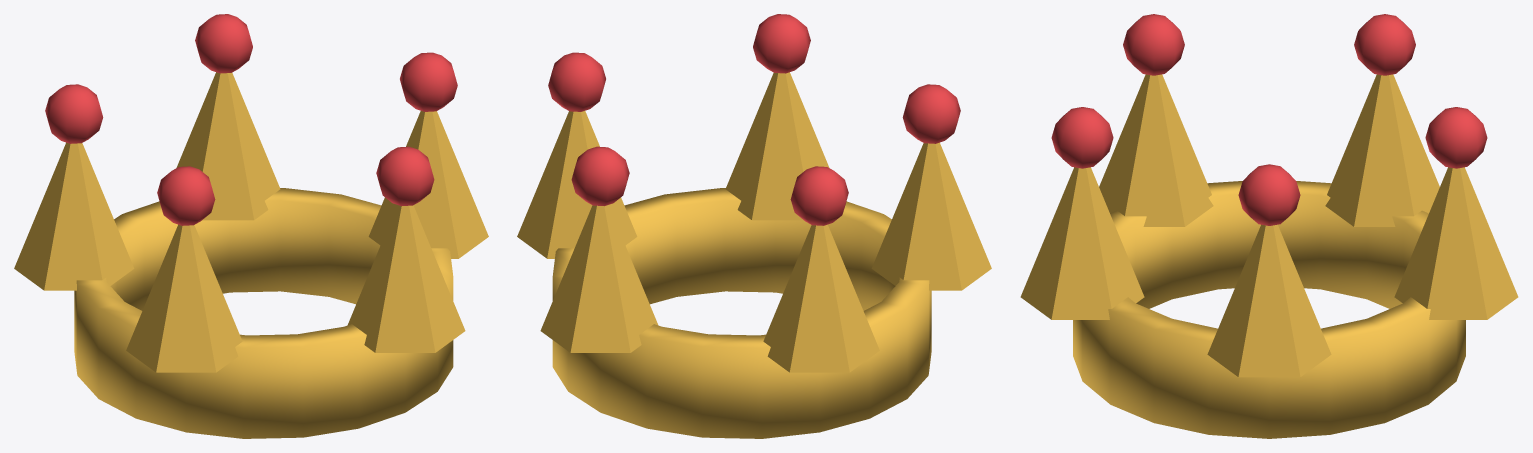
Rendered from crown.glb.
3 renders of one model, left to right at view 1: azimuth 30°, elevation 25°; view 2: azimuth 150°, elevation 25°; view 3: azimuth 270°, elevation 25°, orthographic. The views are drawn at different scales.
Visible parts, largest first — view 1: Crown; view 2: Crown; view 3: Crown.
Boxes of the visible parts, x1,y1,x2,y2 form: Crown: (14,14,488,438); Crown: (517,14,991,438); Crown: (1020,14,1518,438).
Size of the model in its own units: 0.4476 by 0.29 by 0.4814.
